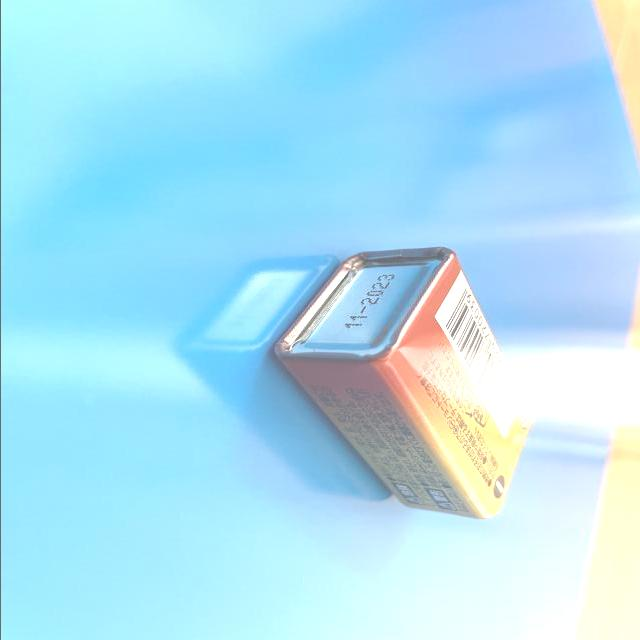9V: (273, 247, 534, 520)
